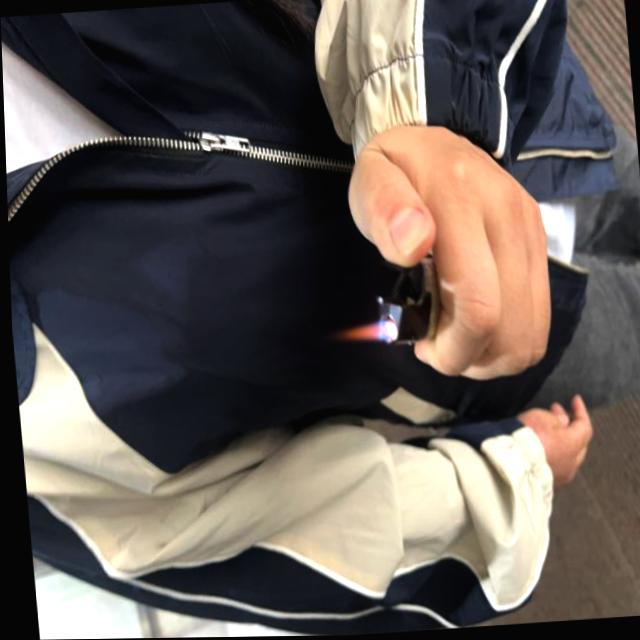Fire: (329, 319, 392, 344)
